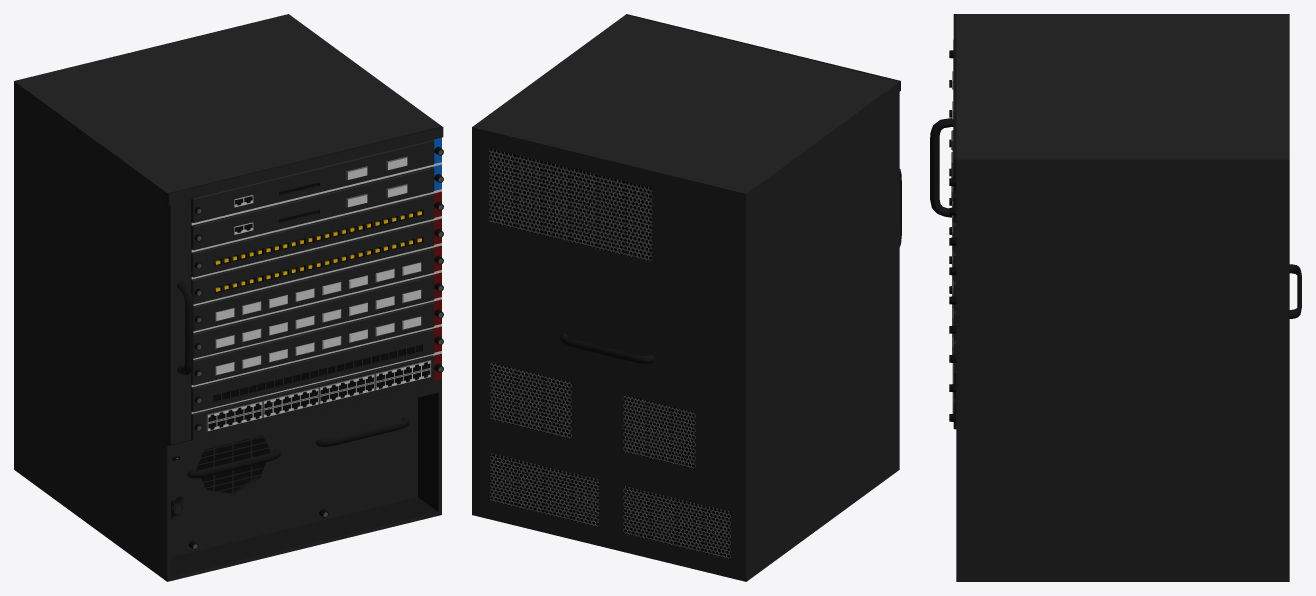
The model's file is CISCO_C6509E.fbx.
3 renders of one model, left to right at view 1: azimuth 30°, elevation 25°; view 2: azimuth 150°, elevation 25°; view 3: azimuth 270°, elevation 25°, orthographic. The views are drawn at different scales.
Parts seen in each view (by area): view 1: CISCO_C6509E; view 2: CISCO_C6509E; view 3: CISCO_C6509E.
Part boxes in pixels (x1,y1,x2,y2): CISCO_C6509E: (14,14,443,581); CISCO_C6509E: (472,14,901,581); CISCO_C6509E: (930,14,1301,581).
Size of the model in its own units: 460 by 622 by 496.
Materials: 18 (2 with a texture image).
